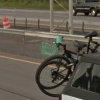Bicycle: (33, 24, 97, 95)
